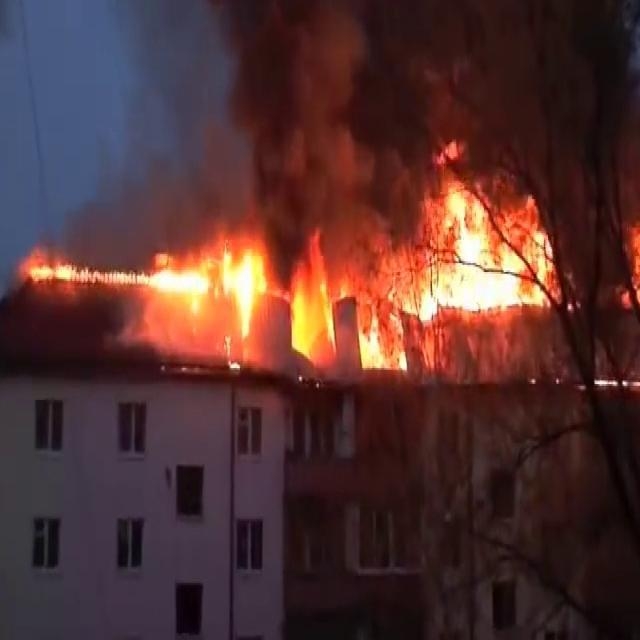Fire: (140, 210, 554, 372), (21, 252, 95, 292)
Smoke: (66, 1, 640, 236)
